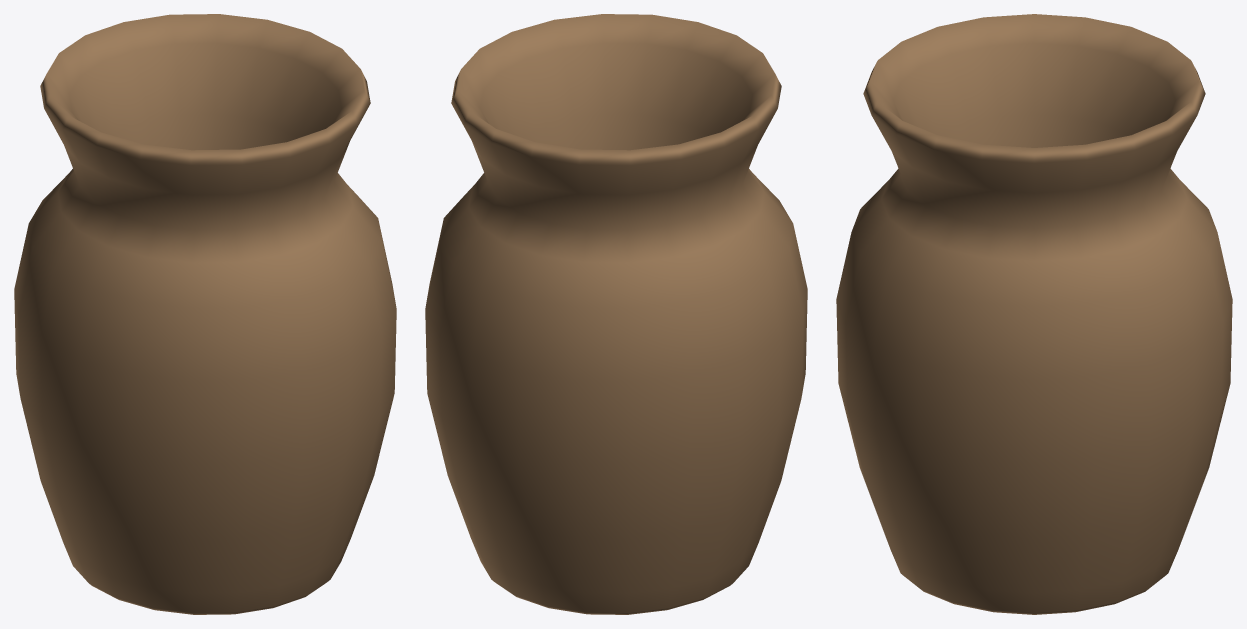
The model's file is Poterie8.fbx.
The picture shows the model from 3 angles, left to right: view 1: azimuth 30°, elevation 25°; view 2: azimuth 150°, elevation 25°; view 3: azimuth 270°, elevation 25°; orthographic projection.
Visible parts, largest first — view 1: polySurface38; view 2: polySurface38; view 3: polySurface38.
Boxes of the visible parts, left/top/right/bottom form: polySurface38: left=14, top=14, right=396, bottom=614; polySurface38: left=425, top=14, right=807, bottom=614; polySurface38: left=836, top=14, right=1232, bottom=614.
Bounding box in the file's own units: 0.2074 × 0.2887 × 0.2152.
